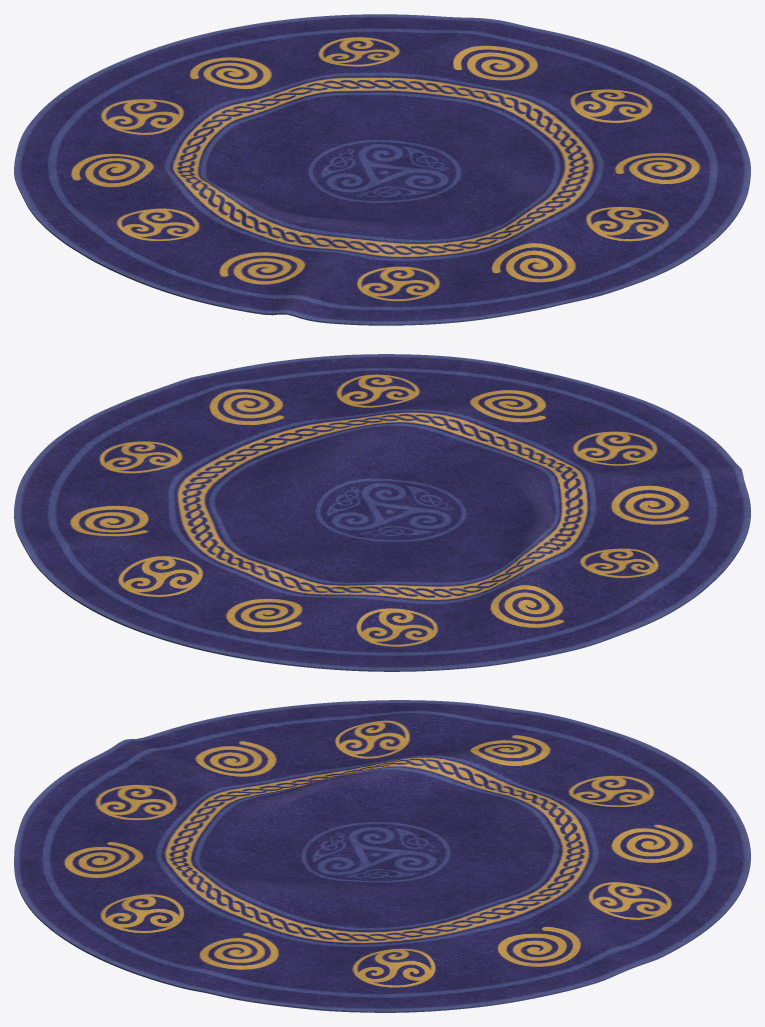
Rendered from libraryCarpetFBX.fbx.
3 views of the same model, one above another, from view 1: azimuth 30°, elevation 25°; view 2: azimuth 150°, elevation 25°; view 3: azimuth 270°, elevation 25° (orthographic).
Visible parts, largest first — view 1: LC; view 2: LC; view 3: LC.
Part boxes in pixels (bbox=[...]): LC: bbox=[14, 14, 750, 325]; LC: bbox=[14, 354, 750, 671]; LC: bbox=[14, 700, 750, 1012].
Size of the model in its own units: 1494 by 30.85 by 1494.
